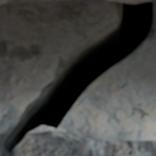brick: (0, 0, 58, 5), (112, 0, 146, 2)
broken_brick: (12, 127, 155, 155), (0, 140, 8, 155)
crack: (2, 0, 154, 155)
